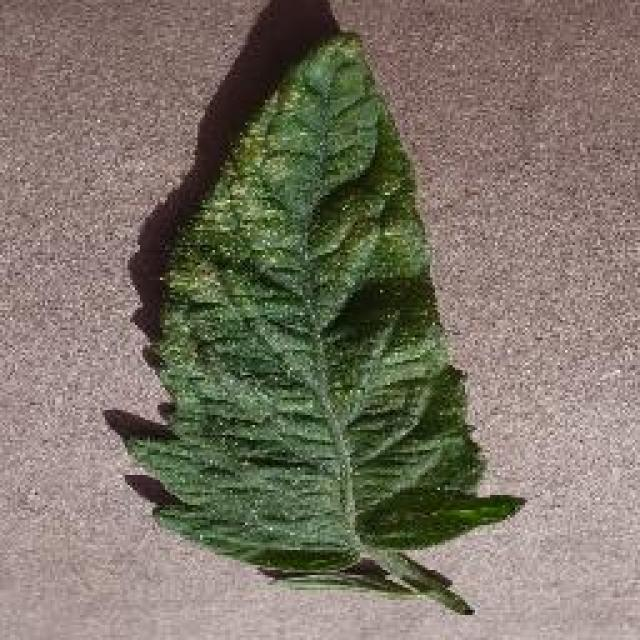Tom_Spider_mites Two-spotted_spider_mite: (187, 119, 385, 384)
